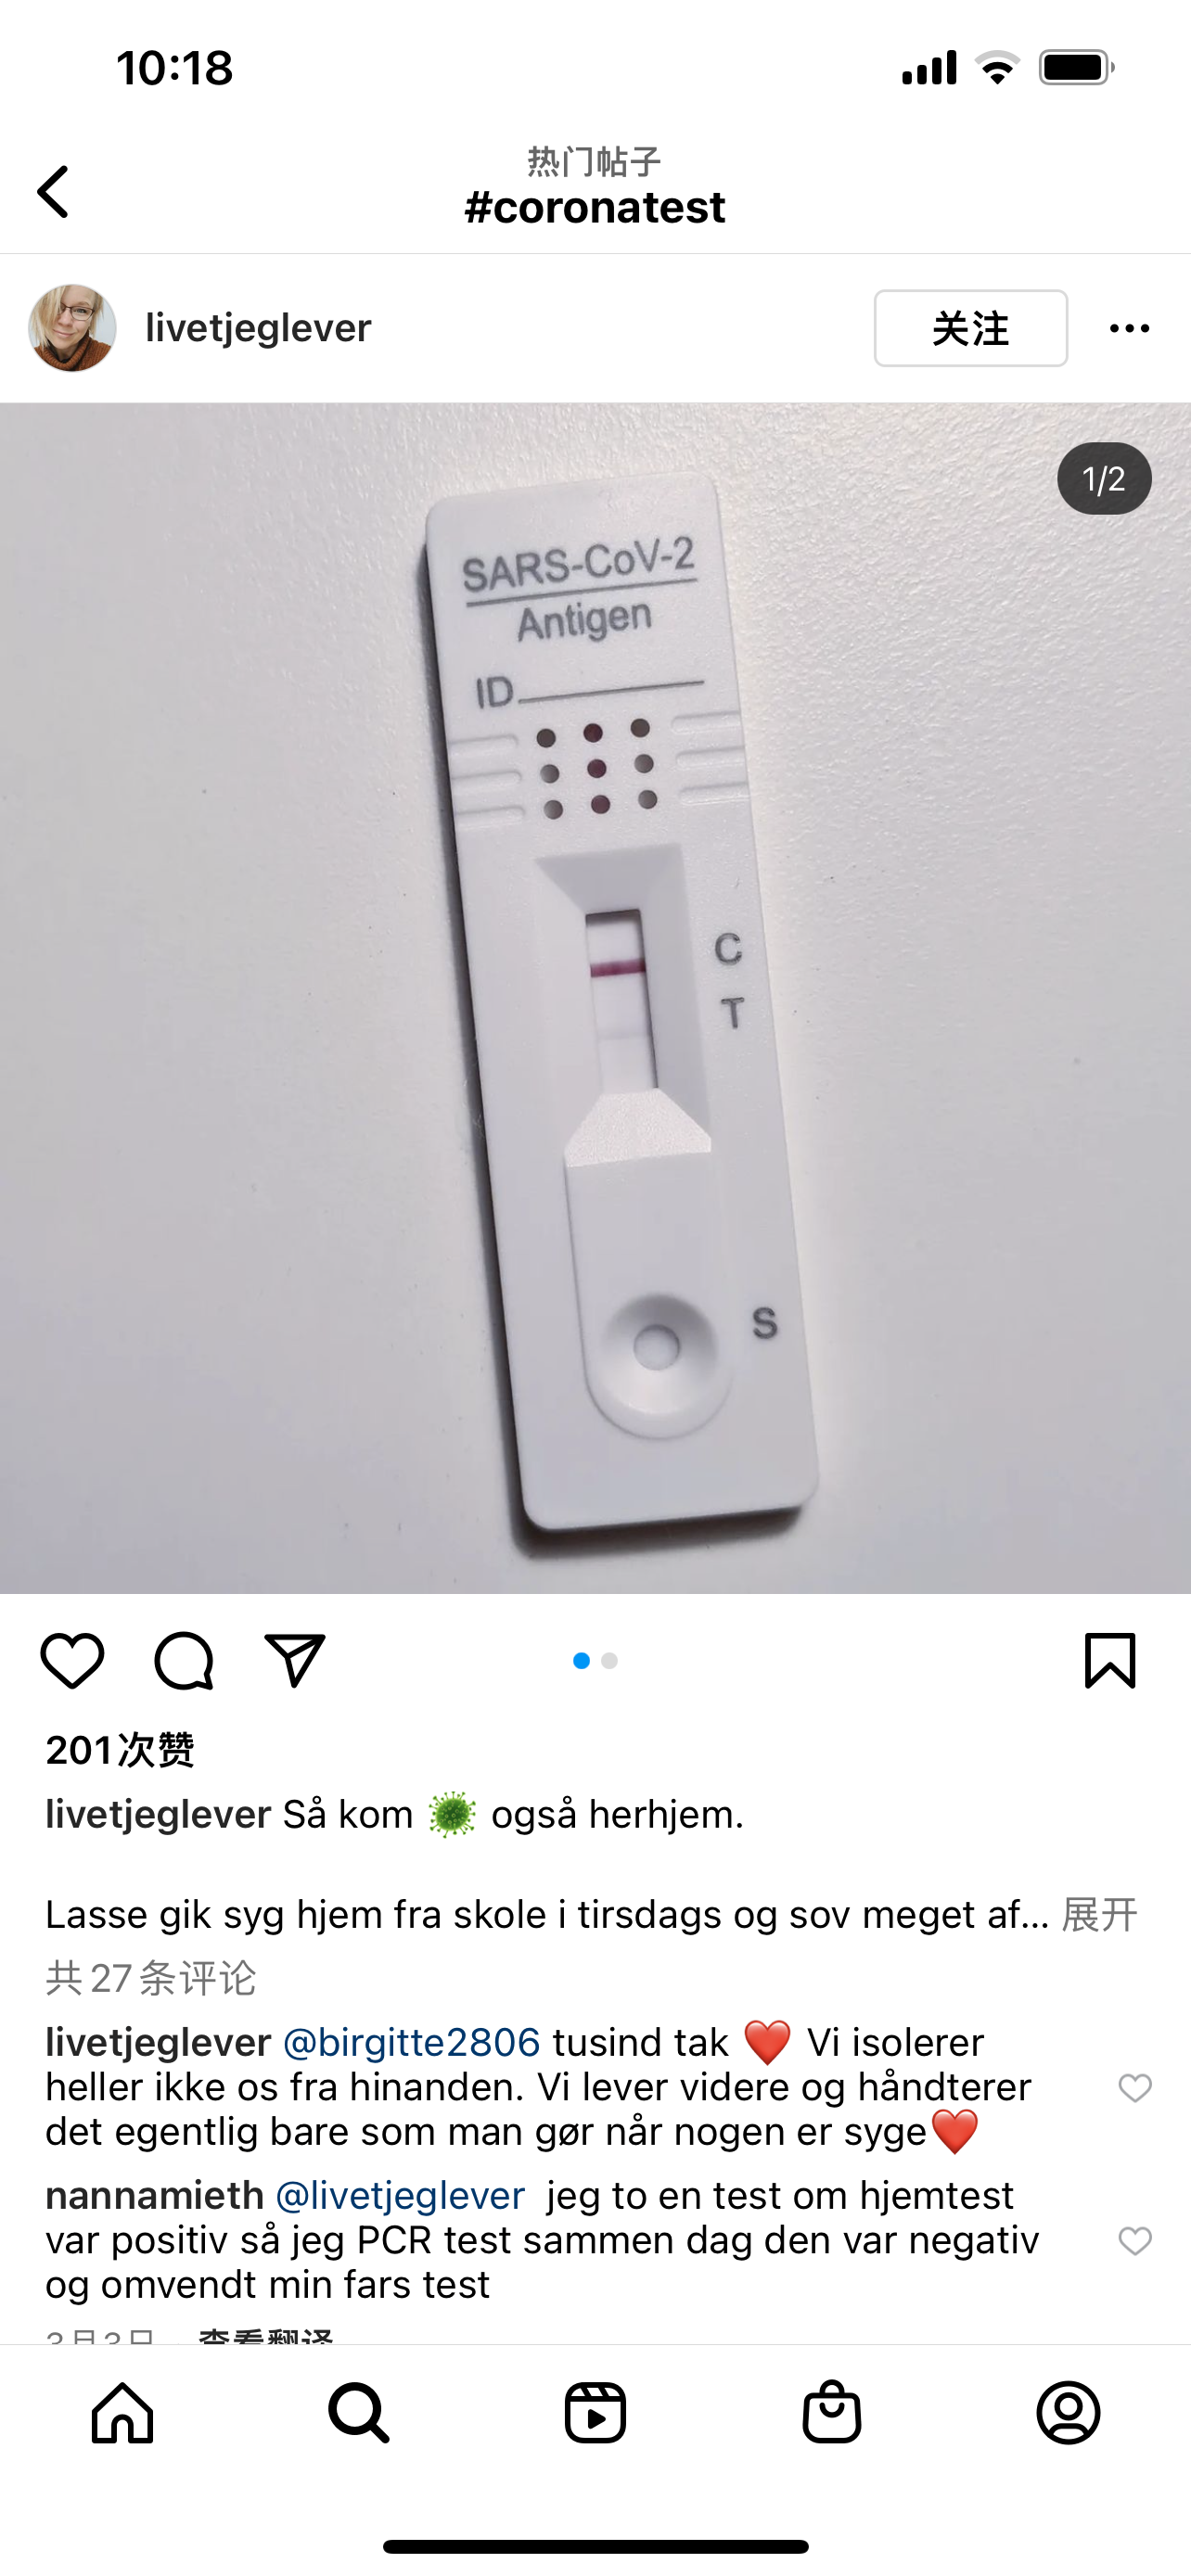positive: (563, 874, 692, 1143)
